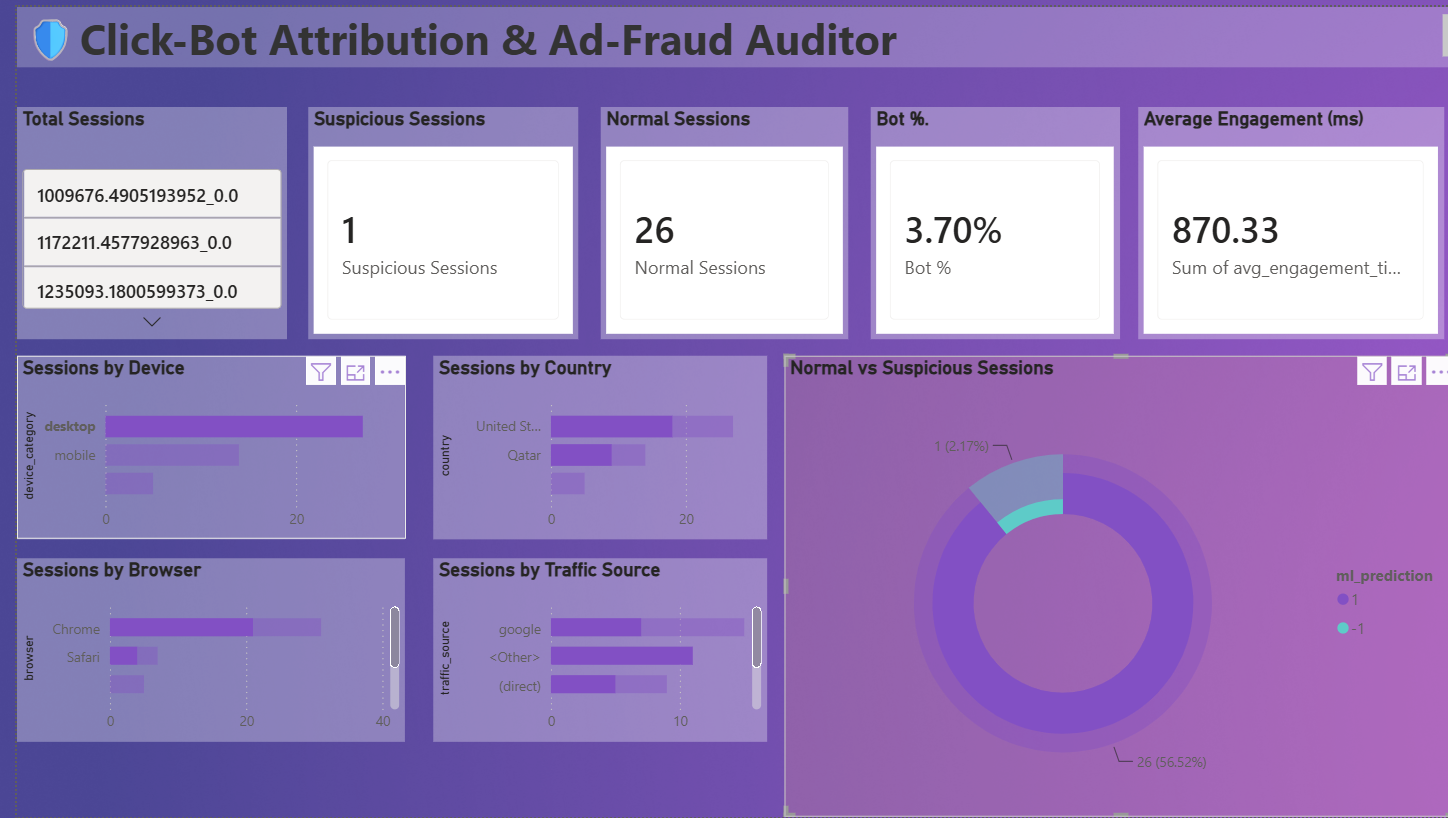

Layout of this report page (visuals, bound fields, positions):
{"tool":"powerbi","page":{"name":"Page 1","canvas":[1280,720],"ordinal":0},"visuals":[{"type":"cardVisual","title":"Total Sessions","fields":{"Rows":["session_ml_anomalies.session_id"]},"box":[0,88.3,240,206.7],"z":0},{"type":"cardVisual","title":"Suspicious Sessions","fields":{"Data":["session_ml_anomalies.Suspicious Sessions"]},"box":[258.3,88.3,240,206.7],"z":1000},{"type":"cardVisual","title":"Normal Sessions","fields":{"Data":["session_ml_anomalies.Normal Sessions"]},"box":[518.3,88.3,220,206.7],"z":2000},{"type":"cardVisual","title":"Average Engagement (ms)","fields":{"Data":["Sum(session_ml_anomalies.avg_engagement_time)"]},"box":[996.7,88.3,271.7,206.7],"z":3000},{"type":"cardVisual","title":"Bot %.","fields":{"Data":["session_ml_anomalies.Bot %"]},"box":[758.3,88.3,221.7,206.7],"z":4000},{"type":"donutChart","title":"Normal vs Suspicious Sessions","fields":{"Category":["session_ml_anomalies.ml_prediction"],"Y":["Count(session_ml_anomalies.session_id)"]},"box":[681.7,310,598.3,410],"z":5000},{"type":"clusteredBarChart","title":"Sessions by Device","fields":{"Category":["session_ml_anomalies.device_category"],"Y":["CountNonNull(session_ml_anomalies.session_id)"]},"box":[0,310,345,163.3],"z":6000},{"type":"clusteredBarChart","title":"Sessions by Country","fields":{"Category":["session_ml_anomalies.country"],"Y":["CountNonNull(session_ml_anomalies.session_id)"]},"box":[370,310,296.7,163.3],"z":7000},{"type":"clusteredBarChart","title":"Sessions by Browser","fields":{"Category":["session_ml_anomalies.browser"],"Y":["CountNonNull(session_ml_anomalies.session_id)"]},"box":[0,490,345,163.3],"z":8000},{"type":"clusteredBarChart","title":"Sessions by Traffic Source","fields":{"Category":["session_ml_anomalies.traffic_source"],"Y":["CountNonNull(session_ml_anomalies.session_id)"]},"box":[370,490,296.7,163.3],"z":9000},{"type":"textbox","box":[0,0,1280,53.3],"z":10001}]}

Visuals, with their boxes in screenshot pixels (x1, y1, x2, y2), scaled from the page's 1280x720 canvas onto the 1448x818 screenshot:
"Total Sessions" cardVisual: box=[0, 100, 272, 335]
"Suspicious Sessions" cardVisual: box=[292, 100, 564, 335]
"Normal Sessions" cardVisual: box=[586, 100, 835, 335]
"Average Engagement (ms)" cardVisual: box=[1128, 100, 1435, 335]
"Bot %." cardVisual: box=[858, 100, 1109, 335]
"Normal vs Suspicious Sessions" donutChart: box=[771, 352, 1447, 817]
"Sessions by Device" clusteredBarChart: box=[0, 352, 390, 538]
"Sessions by Country" clusteredBarChart: box=[419, 352, 754, 538]
"Sessions by Browser" clusteredBarChart: box=[0, 557, 390, 742]
"Sessions by Traffic Source" clusteredBarChart: box=[419, 557, 754, 742]
textbox: box=[0, 0, 1447, 61]
